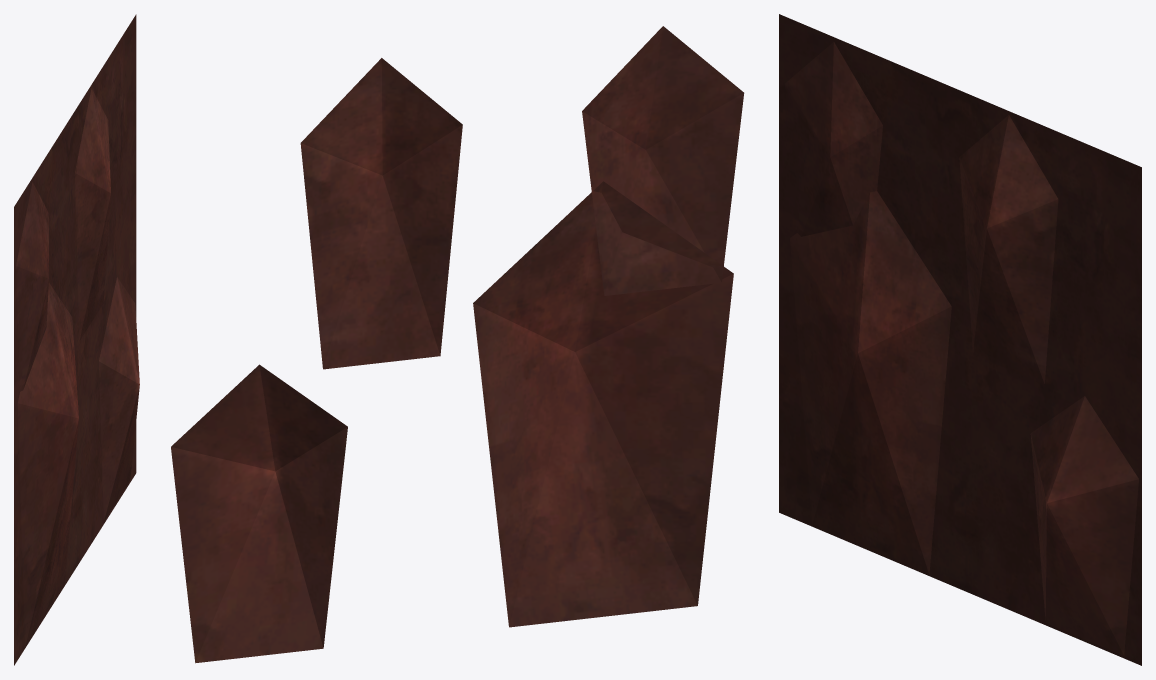
File: lava_wall_diagonal_01.fbx
3 renders of one model, left to right at view 1: azimuth 30°, elevation 25°; view 2: azimuth 150°, elevation 25°; view 3: azimuth 270°, elevation 25°, orthographic. The views are drawn at different scales.
Parts seen in each view (by area): view 1: obj1.012; view 2: obj1.012; view 3: obj1.012.
Part boxes in pixels (x1,y1,x2,y2): obj1.012: (14,14,139,665); obj1.012: (171,26,744,663); obj1.012: (779,14,1141,665).
Size of the model in its own units: 3.62 by 5.5 by 3.63.
